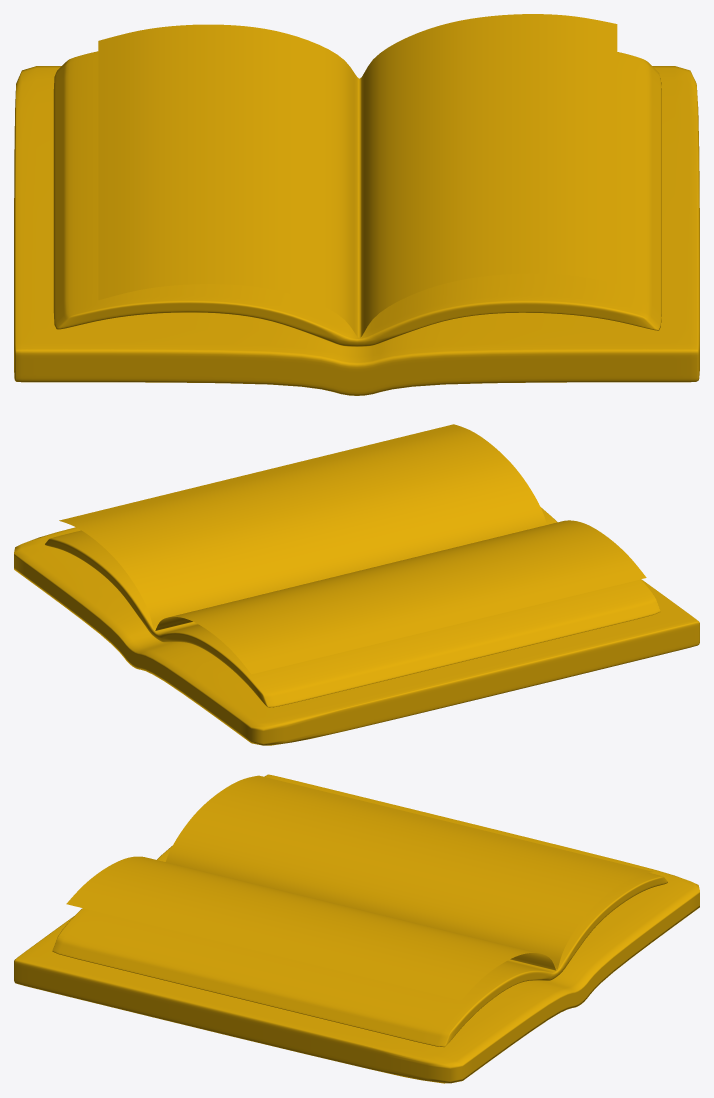
The model's file is Book2.glb.
The picture shows the model from 3 angles, top to bottom: view 1: azimuth 30°, elevation 25°; view 2: azimuth 150°, elevation 25°; view 3: azimuth 270°, elevation 25°; orthographic projection. The views are drawn at different scales.
Parts seen in each view (by area): view 1: polySurface5, polySurface1, polySurface4; view 2: polySurface5, polySurface1, polySurface4; view 3: polySurface5, polySurface1, polySurface4.
Boxes of the visible parts, bbox=[...] form: polySurface5: bbox=[98, 14, 617, 338]; polySurface1: bbox=[14, 66, 699, 395]; polySurface4: bbox=[53, 51, 661, 346]; polySurface5: bbox=[59, 424, 646, 674]; polySurface1: bbox=[14, 507, 699, 745]; polySurface4: bbox=[45, 530, 660, 707]; polySurface5: bbox=[66, 775, 653, 1000]; polySurface1: bbox=[14, 774, 699, 1083]; polySurface4: bbox=[52, 873, 667, 1046].
Size of the model in its own units: 90.32 by 11.79 by 90.5.
